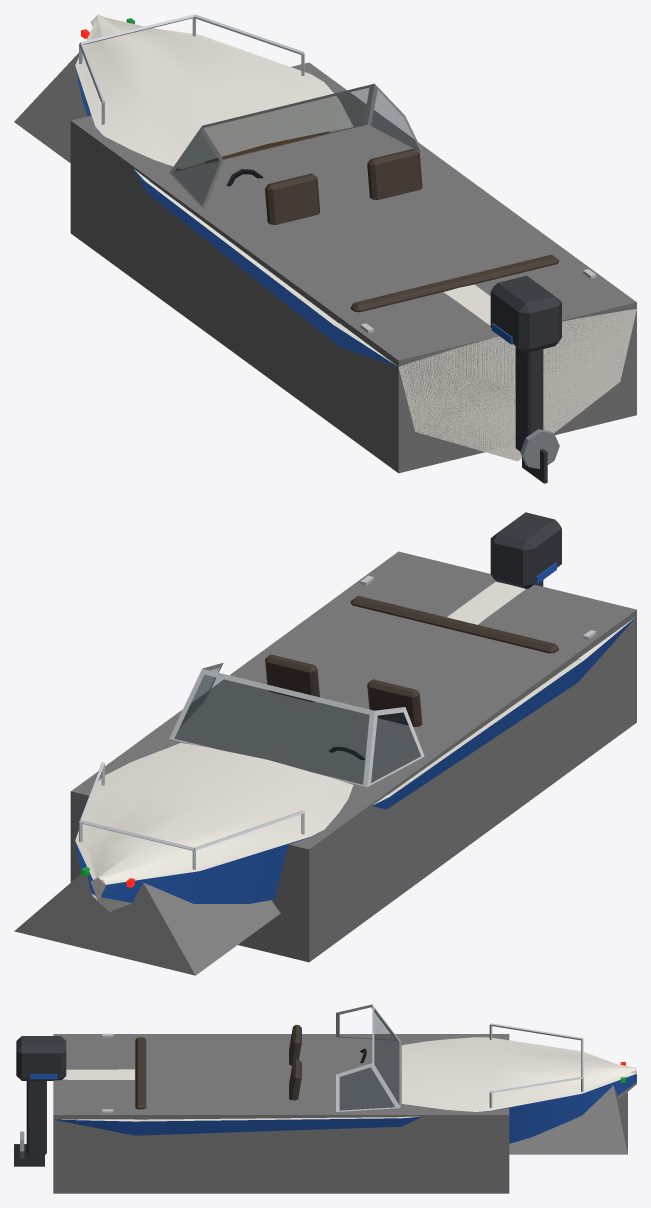
Rendered from speedboat.glb.
The picture shows the model from 3 angles, top to bottom: view 1: azimuth 30°, elevation 25°; view 2: azimuth 150°, elevation 25°; view 3: azimuth 270°, elevation 25°; orthographic projection. The views are drawn at different scales.
Visible parts, largest first — view 1: speedboat, speedboat_Body, speedboat_Motor; view 2: speedboat, speedboat_Body, speedboat_Motor; view 3: speedboat, speedboat_Body, speedboat_Motor.
Part boxes in pixels (x1,y1,x2,y2): speedboat: (14,53,636,473); speedboat_Body: (75,14,636,461); speedboat_Motor: (490,275,561,483); speedboat: (14,551,636,975); speedboat_Body: (75,575,635,912); speedboat_Motor: (490,512,561,588); speedboat: (53,1034,627,1193); speedboat_Body: (54,1004,636,1144); speedboat_Motor: (14,1036,66,1166).
Bounding box in the file's own units: 2.2 × 1.62 × 6.83.
